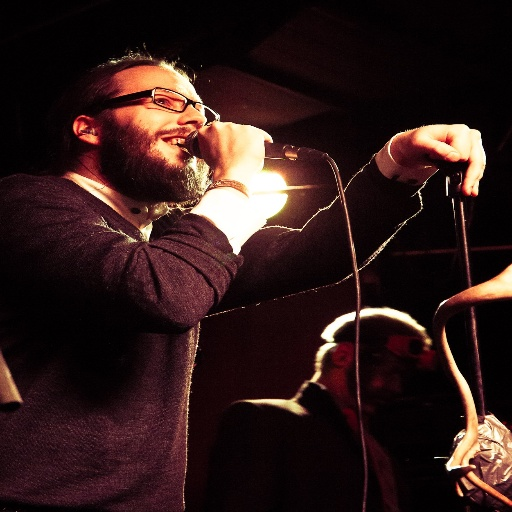hand: (383, 123, 487, 200), (187, 113, 282, 193)
